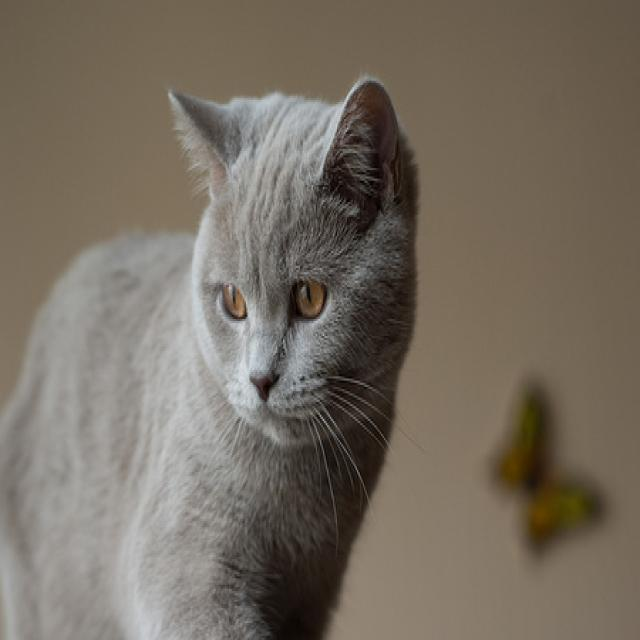British Shorthair: (0, 70, 420, 640)
